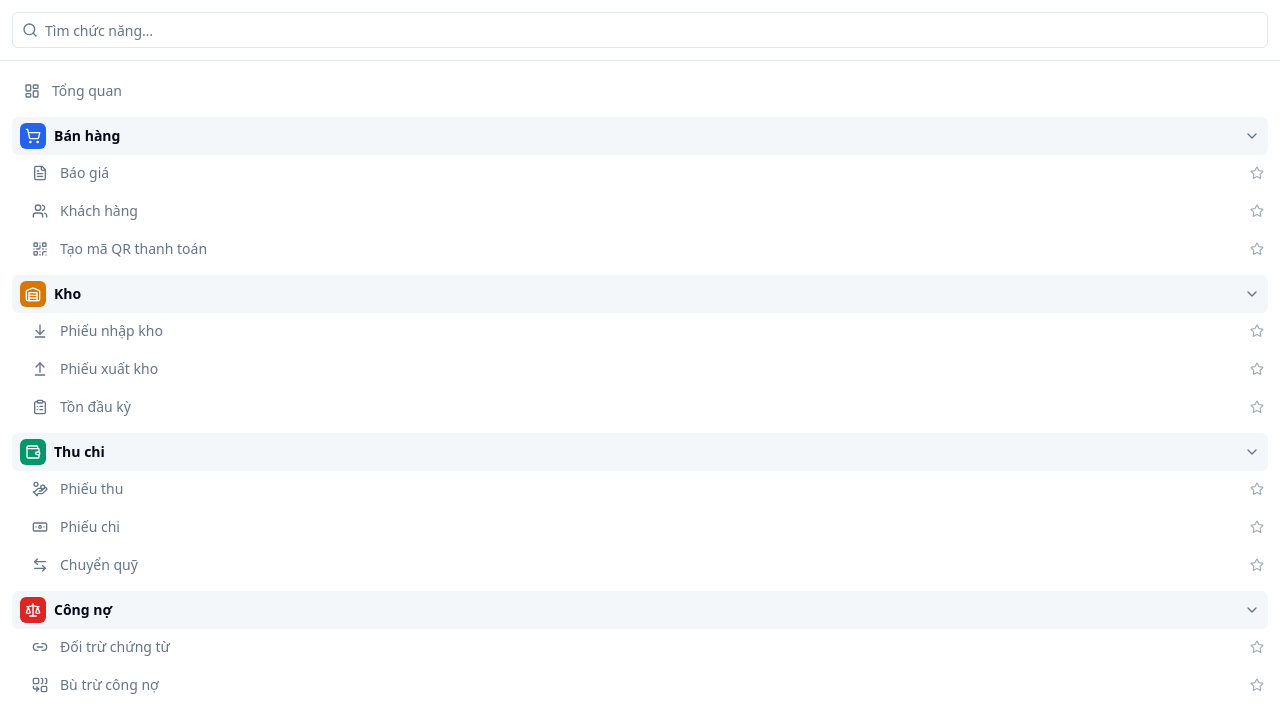
Sidebar groups › toggles a group and stores the choice
The image size is (1280, 713).
What coordinates should you click on to do the following:
click the button "Bán hàng"
I would click on:
 (87, 136)
Its box is [12, 117, 1268, 155].
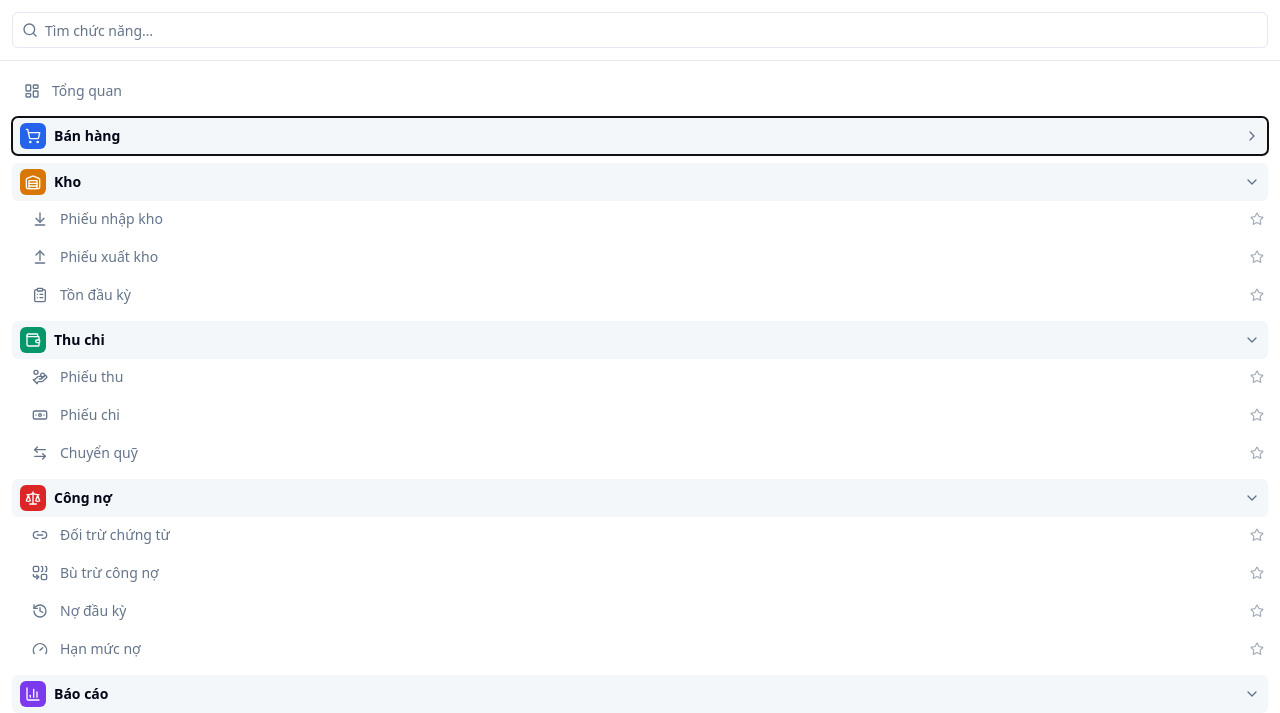
Expected: the button "Bán hàng" is collapsed
What coordinates should you click on to do the following:
click the button "Bán hàng"
I would click on:
 (87, 136)
Its box is [12, 117, 1268, 155].
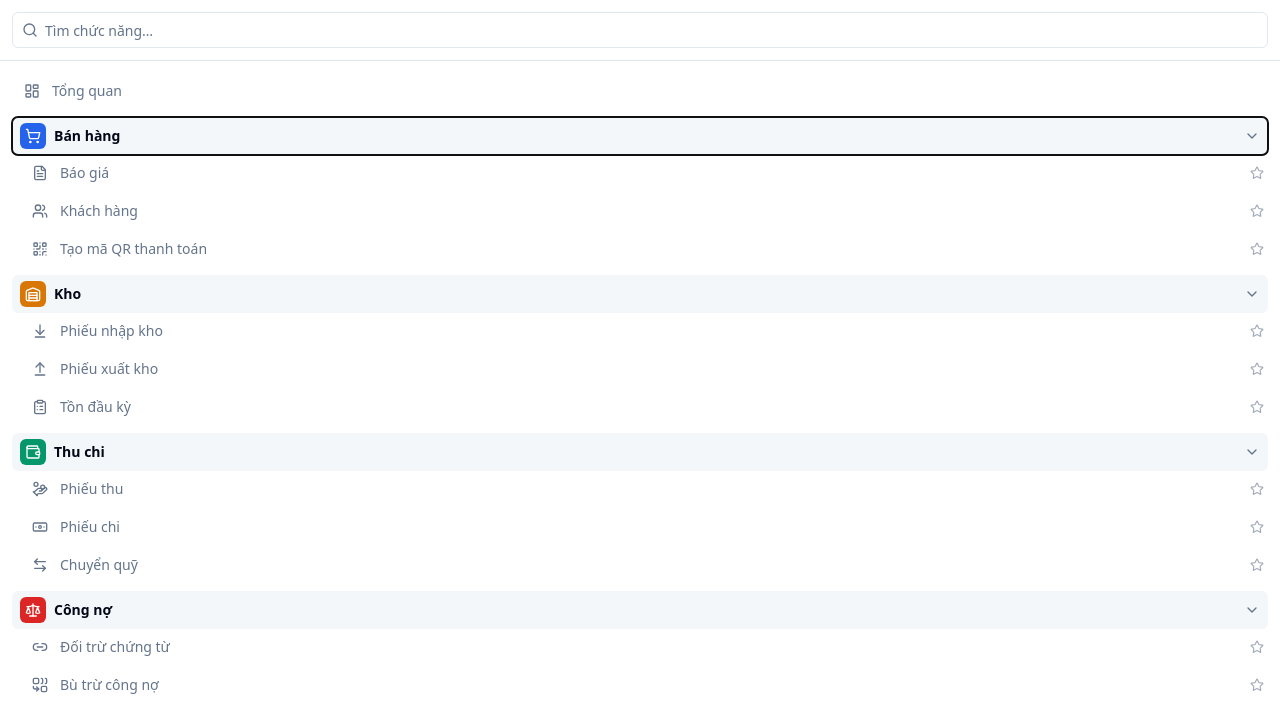
Expected: the button "Bán hàng" is expanded, [12, 117, 1268, 155]
